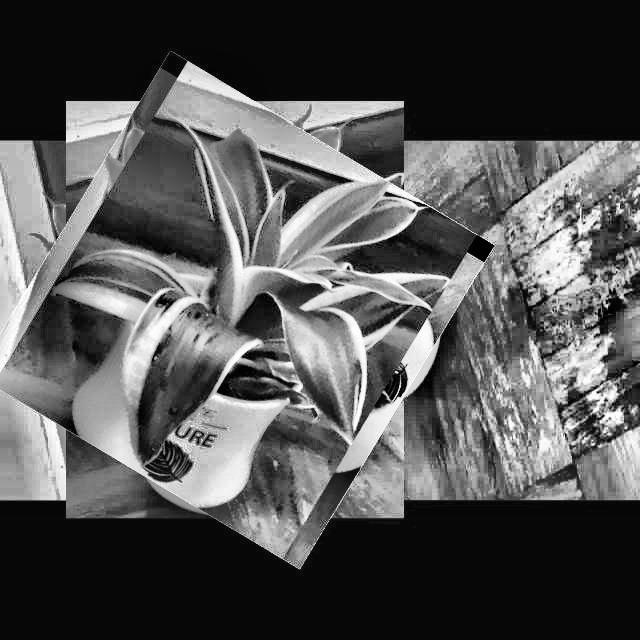plants: (11, 86, 459, 534)
